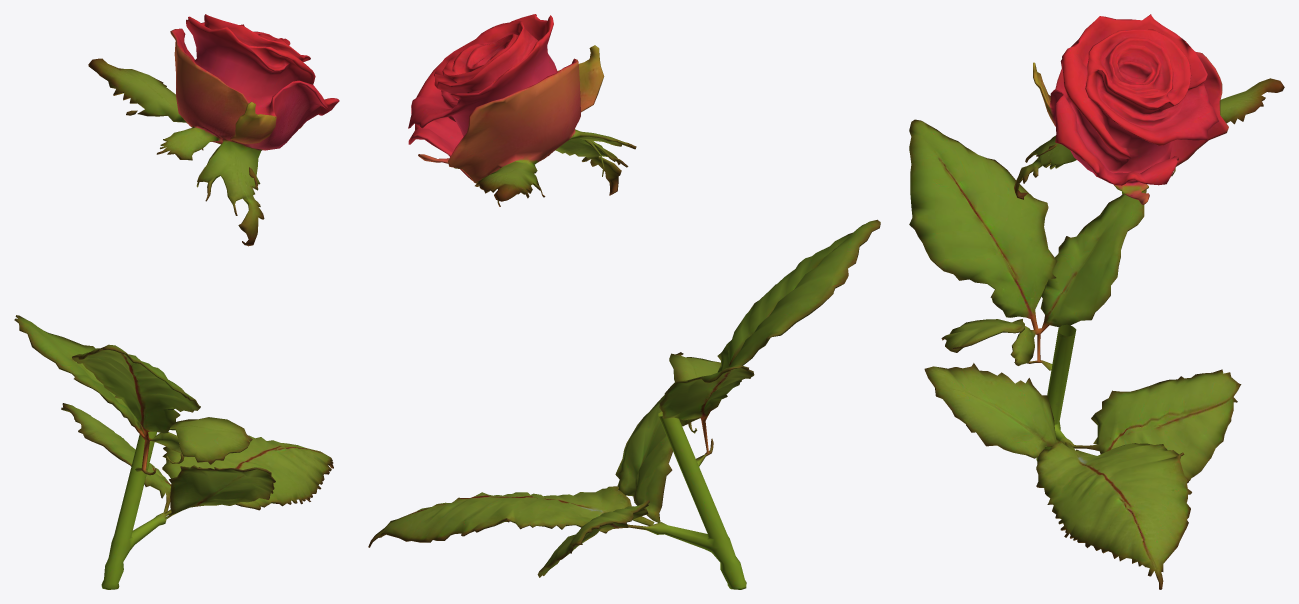
The model's file is rose_white.glb.
3 views of the same model, side by side, from view 1: azimuth 30°, elevation 25°; view 2: azimuth 150°, elevation 25°; view 3: azimuth 270°, elevation 25° (orthographic). The views are drawn at different scales.
Parts seen in each view (by area): view 1: tripo_node_a5ce557b-2e99-40da-b6f3-095623a544cc; view 2: tripo_node_a5ce557b-2e99-40da-b6f3-095623a544cc; view 3: tripo_node_a5ce557b-2e99-40da-b6f3-095623a544cc.
Boxes of the visible parts, bbox=[...] form: tripo_node_a5ce557b-2e99-40da-b6f3-095623a544cc: bbox=[14, 14, 339, 589]; tripo_node_a5ce557b-2e99-40da-b6f3-095623a544cc: bbox=[368, 14, 880, 589]; tripo_node_a5ce557b-2e99-40da-b6f3-095623a544cc: bbox=[909, 14, 1284, 589].
Size of the model in its own units: 0.7196 by 0.9992 by 0.6589.
Materials: 1 (1 with a texture image).
